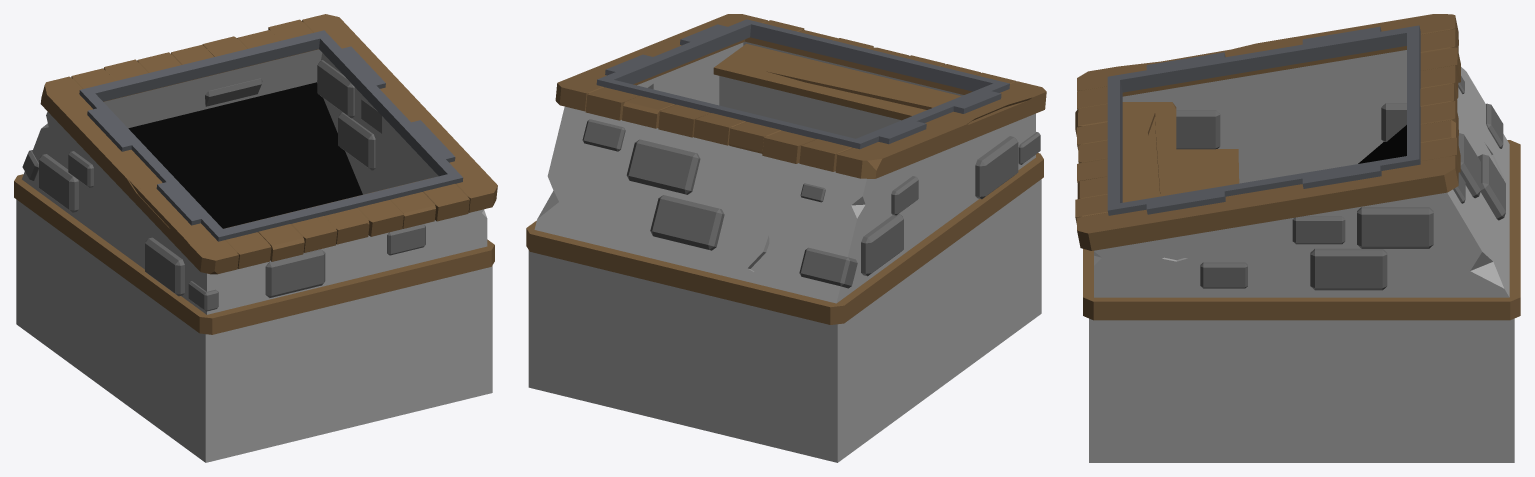
Rendered from Basement box.fbx.
3 renders of one model, left to right at view 1: azimuth 30°, elevation 25°; view 2: azimuth 150°, elevation 25°; view 3: azimuth 270°, elevation 25°, orthographic. The views are drawn at different scales.
Visible parts, largest first — view 1: Basement door; view 2: Basement door; view 3: Basement door.
Part boxes in pixels (box(x1,y1,x2,y2)): Basement door: box(14, 14, 497, 462); Basement door: box(526, 14, 1046, 462); Basement door: box(1075, 14, 1520, 462).
Size of the model in its own units: 2.91 by 2.44 by 3.37.
